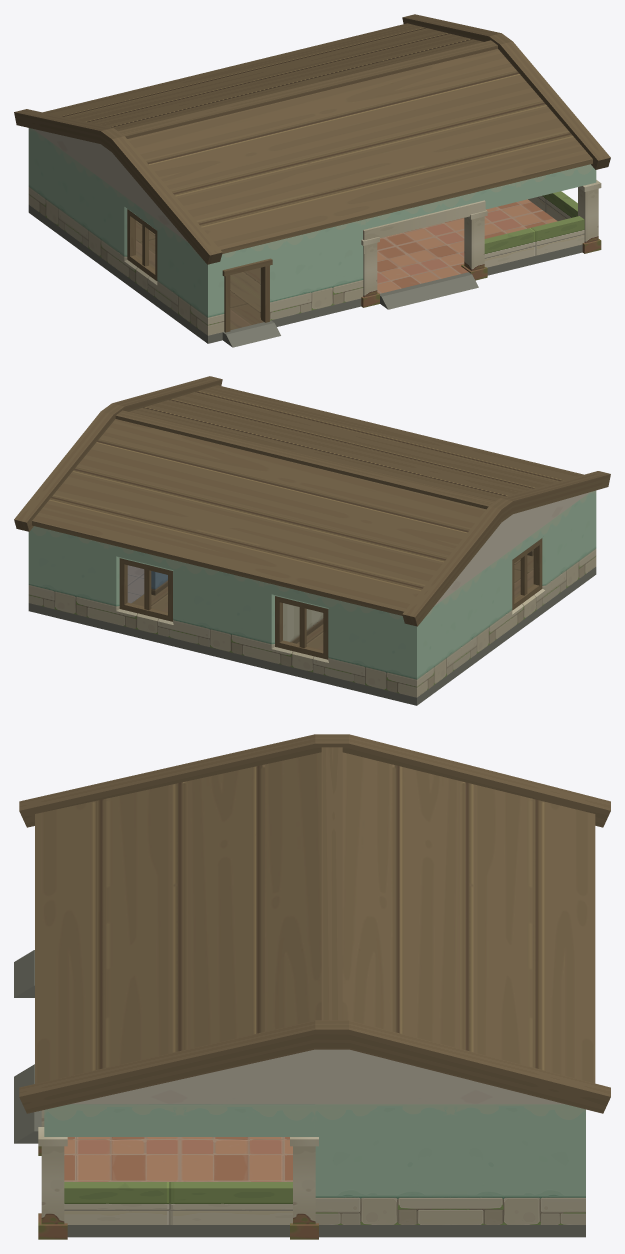
Rendered from ShootingRange_Building_Universal_Brown_Lod1.fbx.
3 views of the same model, one above another, from view 1: azimuth 30°, elevation 25°; view 2: azimuth 150°, elevation 25°; view 3: azimuth 270°, elevation 25° (orthographic). The views are drawn at different scales.
Parts seen in each view (by area): view 1: ShootingRange_Building_Universal_Brown_Lod1; view 2: ShootingRange_Building_Universal_Brown_Lod1; view 3: ShootingRange_Building_Universal_Brown_Lod1.
Part boxes in pixels (box(x1,y1,x2,y2)): ShootingRange_Building_Universal_Brown_Lod1: box(14, 14, 610, 347); ShootingRange_Building_Universal_Brown_Lod1: box(14, 376, 610, 705); ShootingRange_Building_Universal_Brown_Lod1: box(14, 734, 610, 1239).
Bounding box in the file's own units: 2066 × 692 × 1764.
